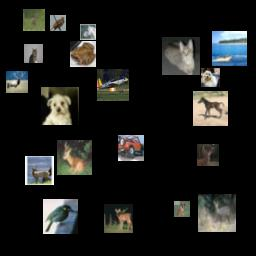airplane: (97, 69, 129, 101)
automobile: (118, 135, 144, 161)
bird: (43, 199, 78, 234), (50, 15, 66, 31)
cat: (162, 37, 200, 75), (24, 44, 43, 63)
deer: (198, 194, 236, 232), (57, 140, 92, 175), (104, 204, 133, 233), (25, 156, 54, 185), (6, 71, 28, 93), (197, 144, 219, 166), (23, 9, 45, 31)
dog: (41, 87, 79, 125), (201, 68, 220, 87), (174, 201, 190, 217)
frog: (70, 41, 96, 67)
ship: (212, 31, 247, 66)
